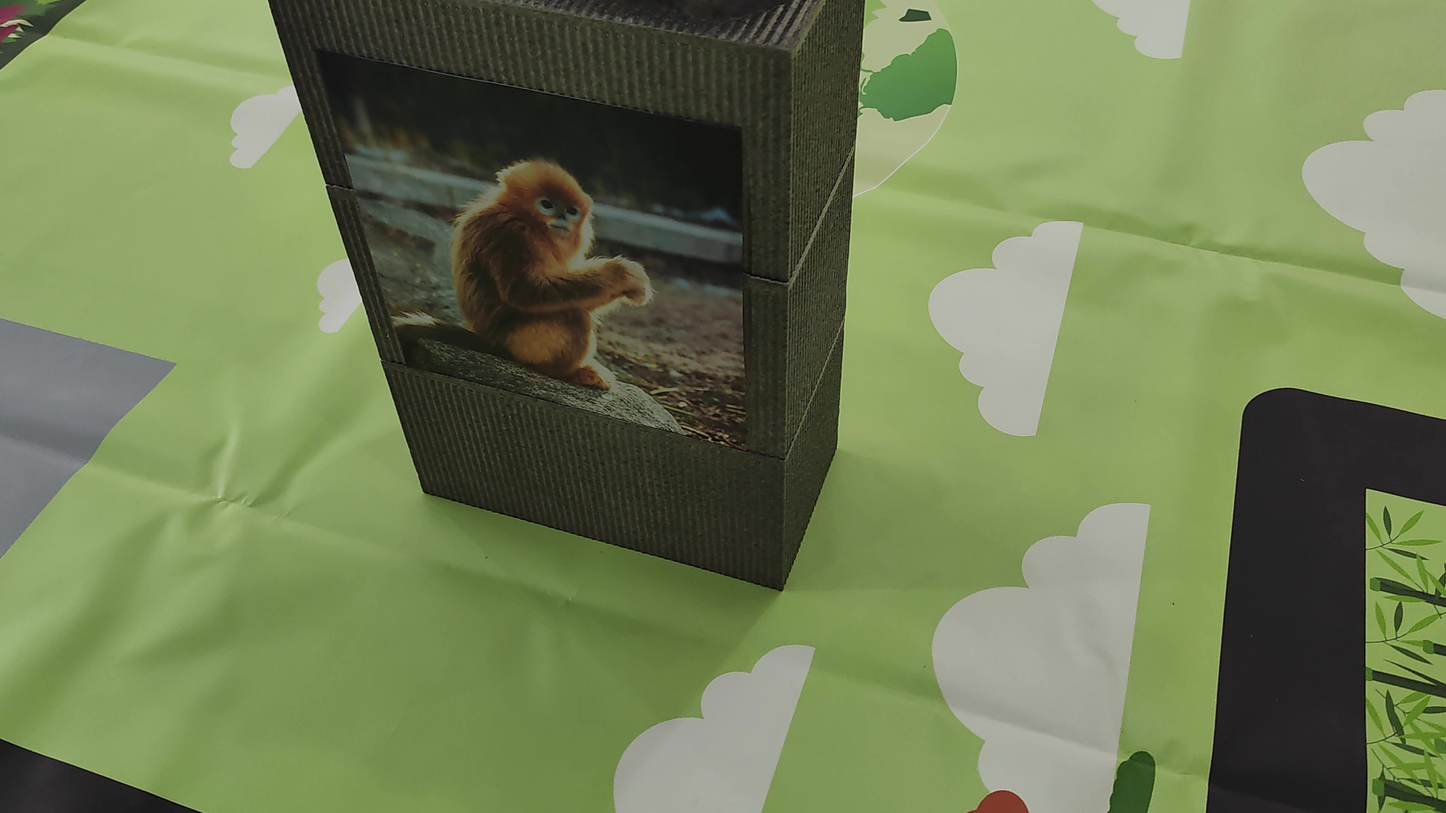monkey: (395, 111, 706, 412)
